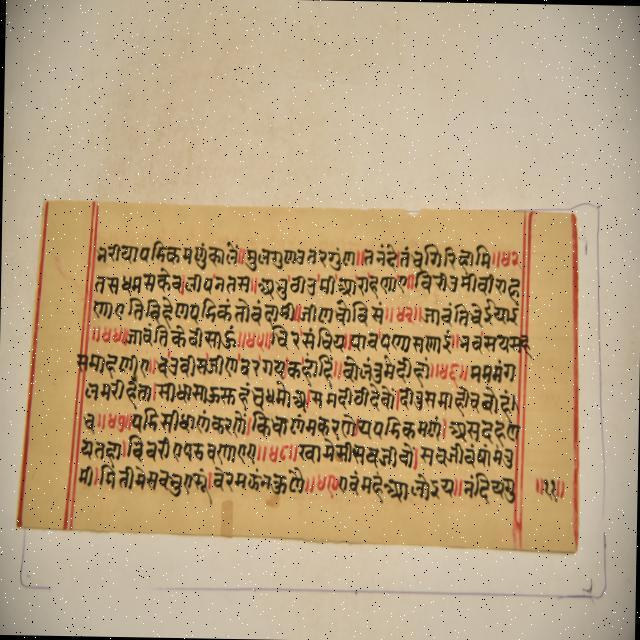text_paragraph: (18, 200, 575, 550)
